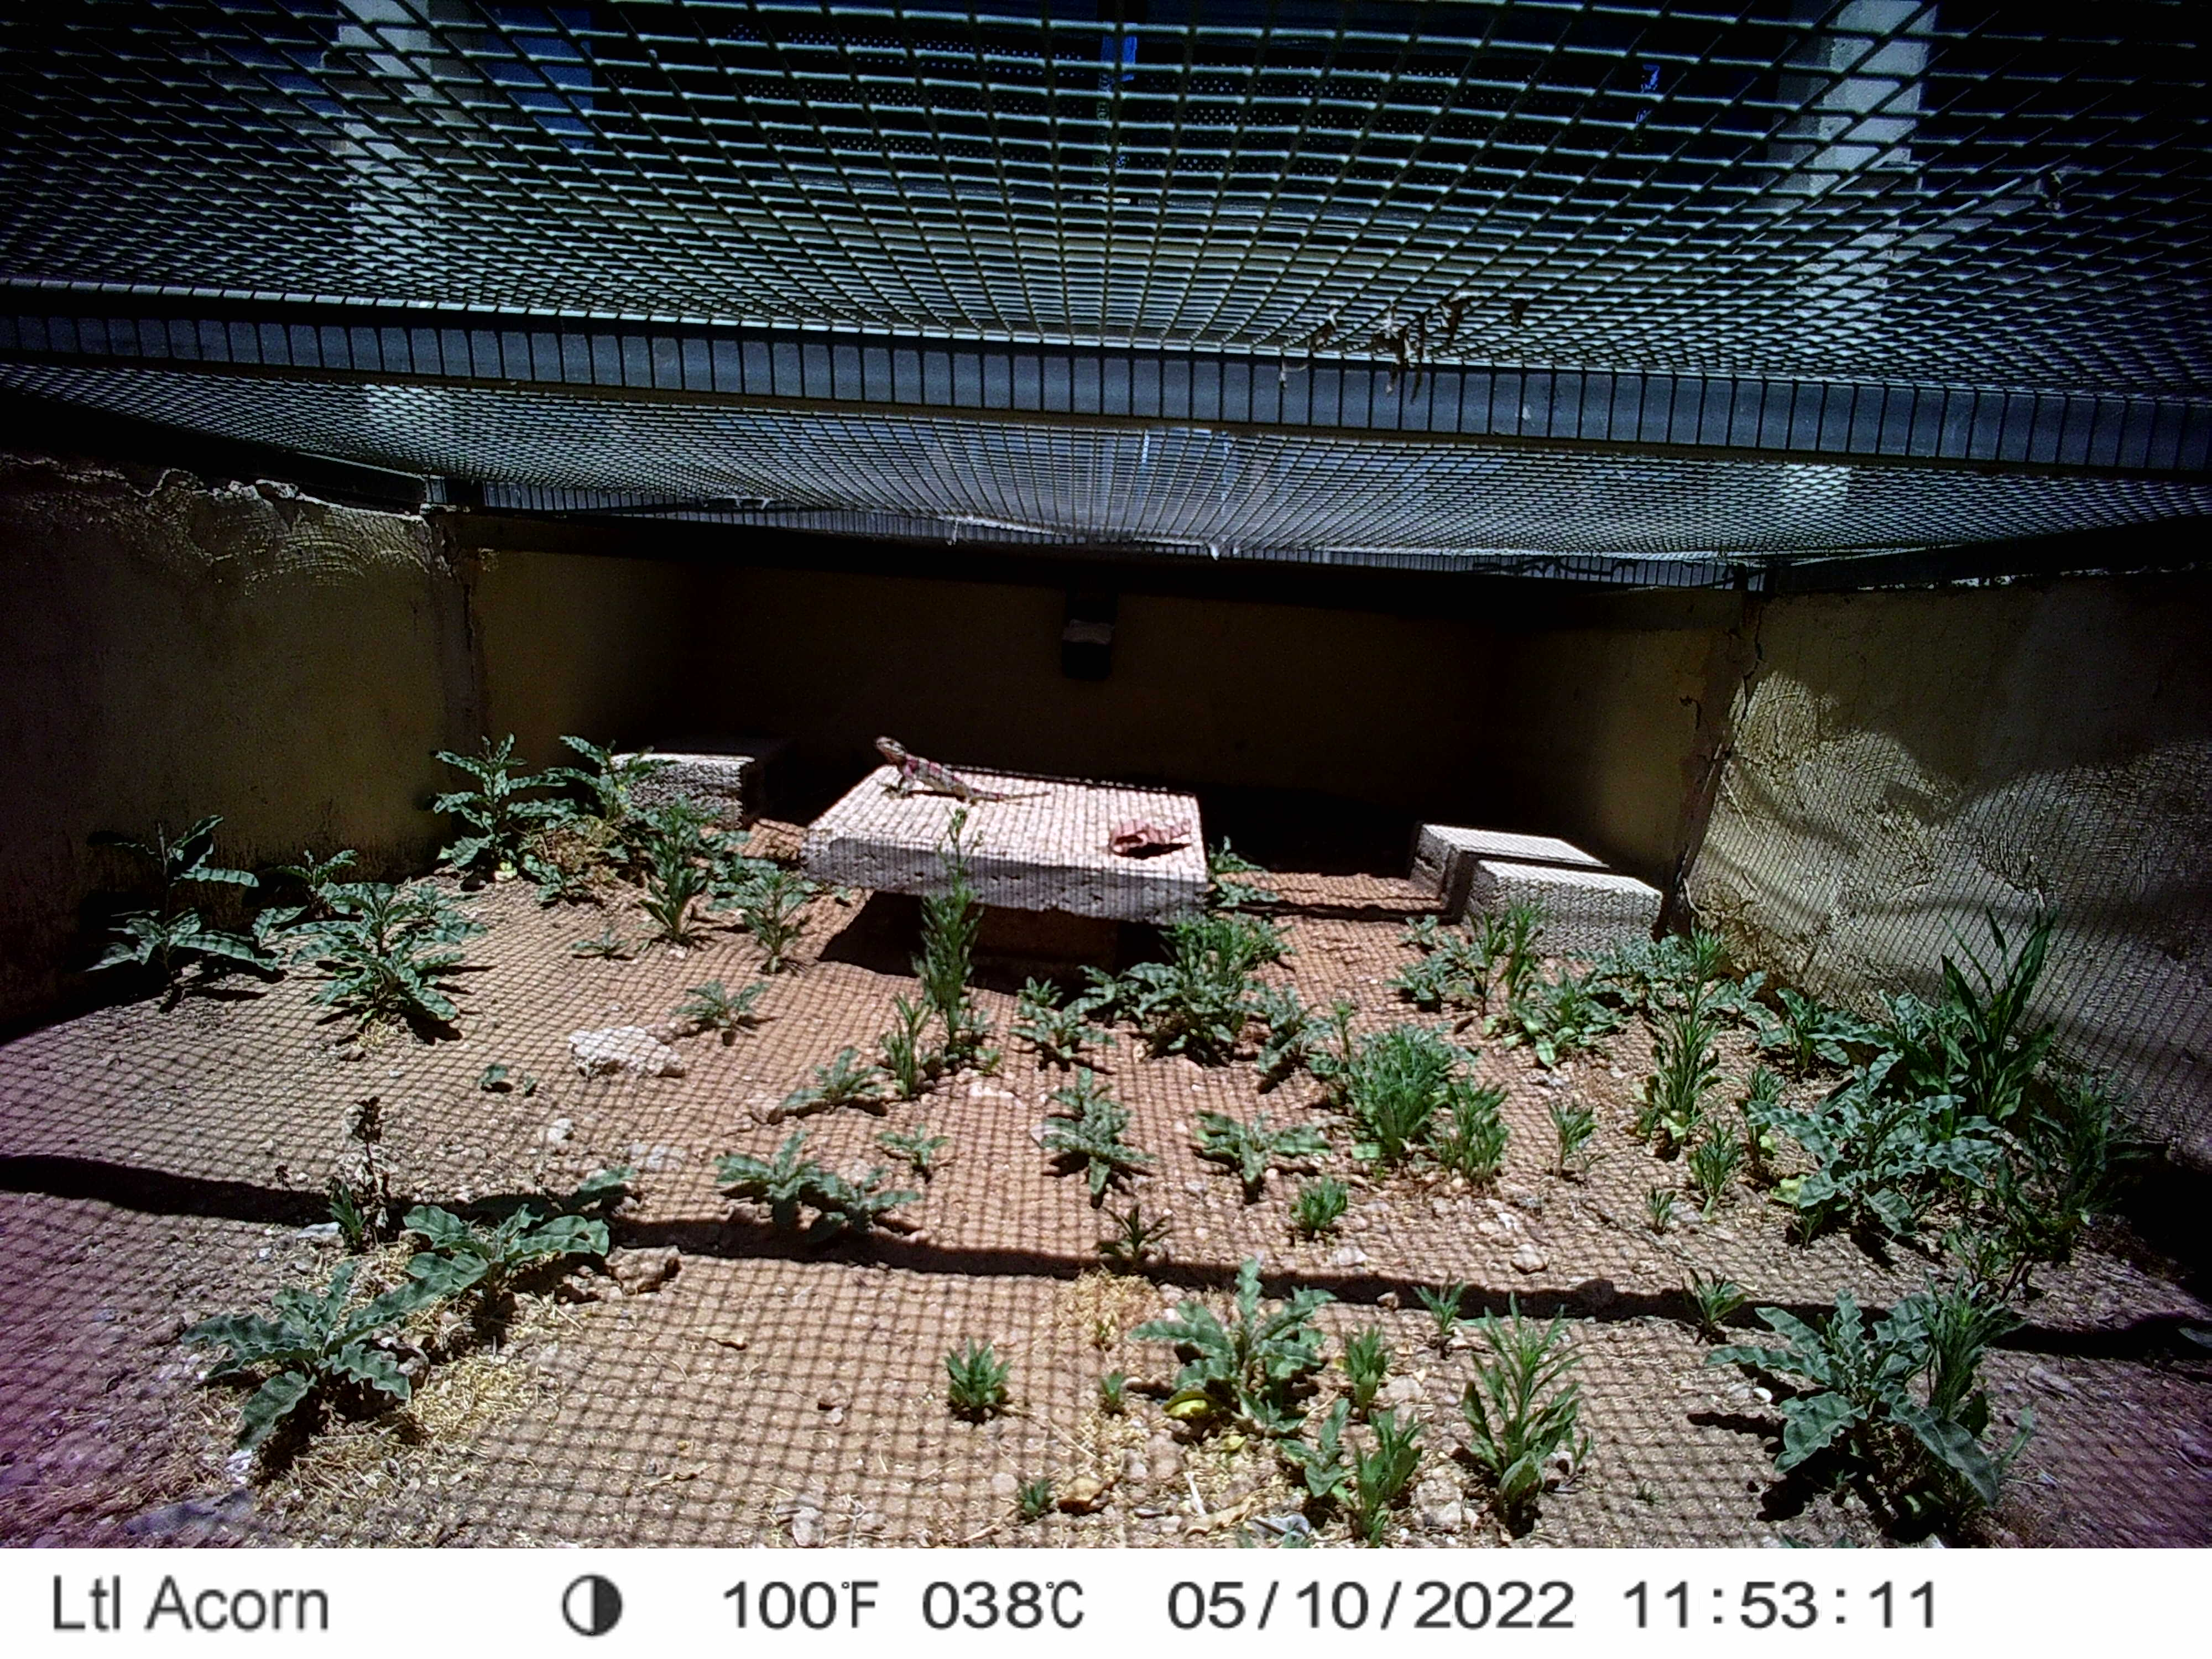lizard: (864, 732, 1055, 816)
